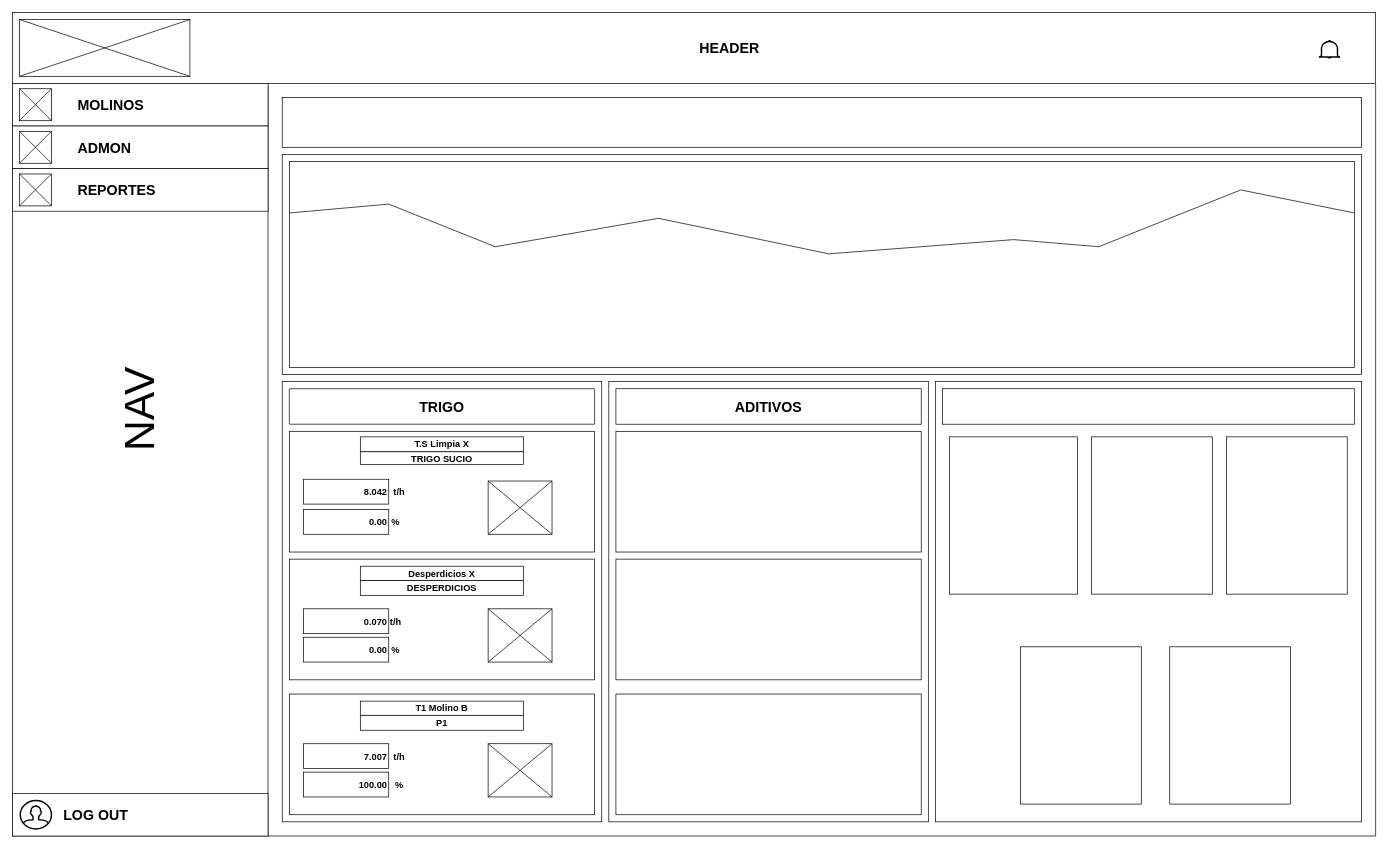
The diagram is 1389 pixels wide and 849 high, and some of its shapes have lost their labels. Here are the shapes that lost their labels. From the top down, the box of each, then its label:
(19, 19, 190, 76): IMAGEN
(282, 97, 1361, 147): MOLINOX
(942, 388, 1354, 424): PRODUCTOS FINALES
